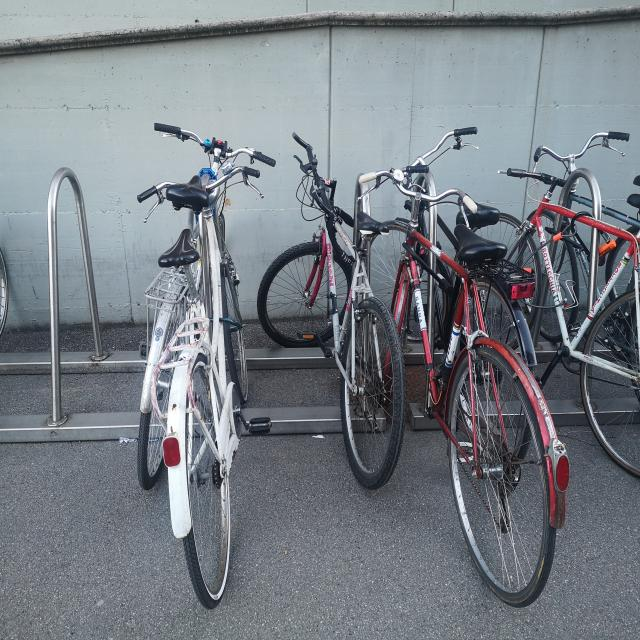Bicycle: (385, 182, 566, 615), (256, 141, 415, 527), (362, 137, 538, 456), (499, 159, 640, 496), (174, 178, 247, 614), (529, 111, 640, 393), (130, 106, 178, 504)
